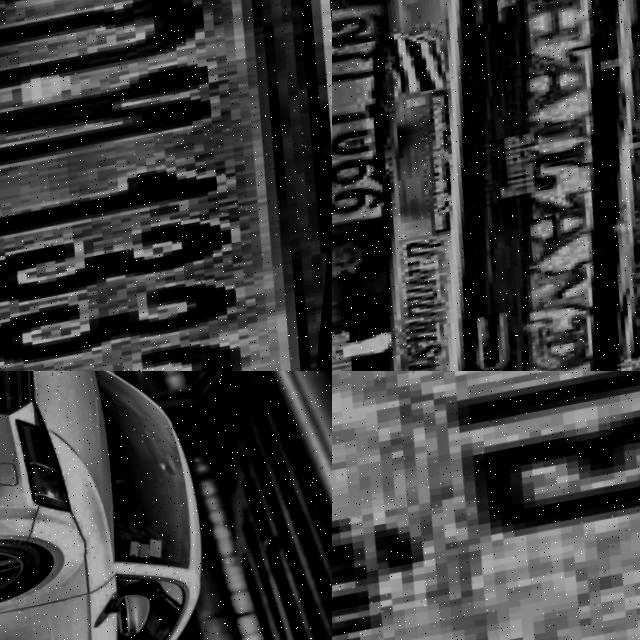license-plate: (0, 0, 332, 371), (332, 371, 640, 640), (332, 0, 445, 250)
